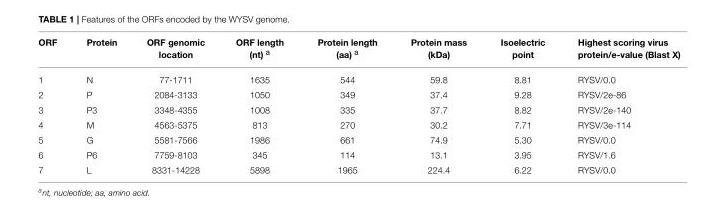table: (37, 37, 679, 174)
table column: (560, 37, 679, 174), (299, 37, 393, 174), (393, 37, 482, 174), (131, 37, 219, 174), (219, 37, 299, 174), (482, 37, 560, 174), (70, 37, 131, 174), (37, 37, 70, 174)
table column header: (37, 37, 679, 67)
table row: (37, 37, 679, 67), (37, 67, 679, 87), (37, 87, 679, 102), (37, 102, 679, 117), (37, 117, 679, 132), (37, 132, 679, 147), (37, 147, 679, 162), (37, 162, 679, 174)
